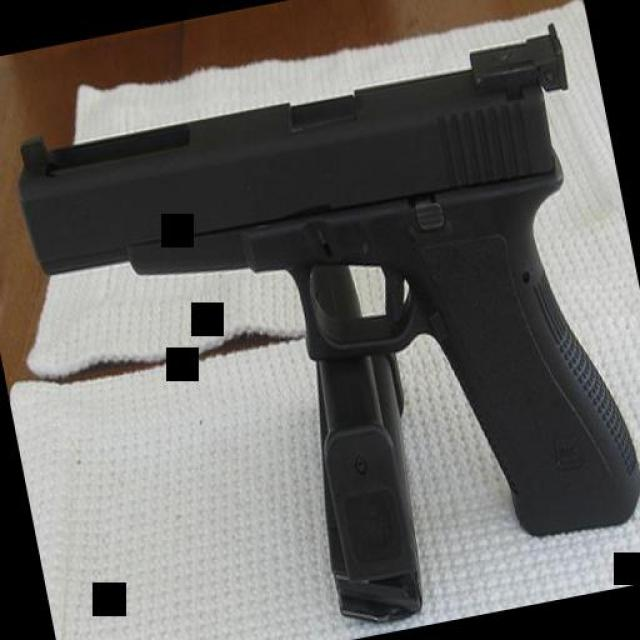gun: (4, 22, 640, 628)
